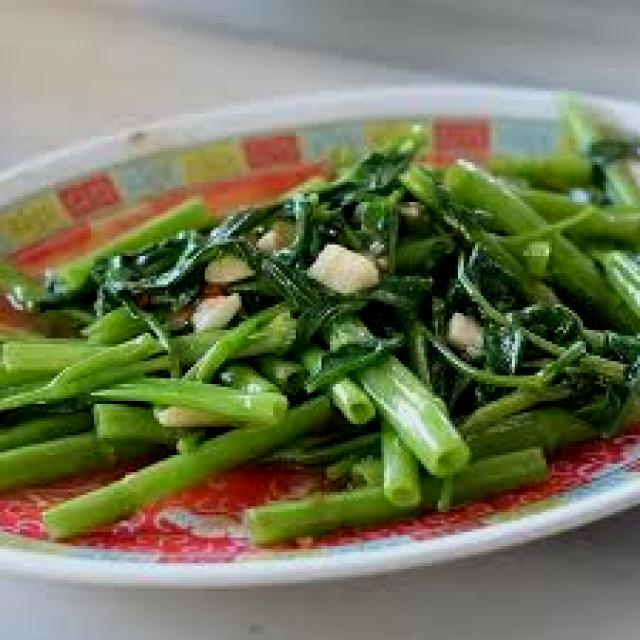tumis kangkung: (0, 128, 640, 543)
